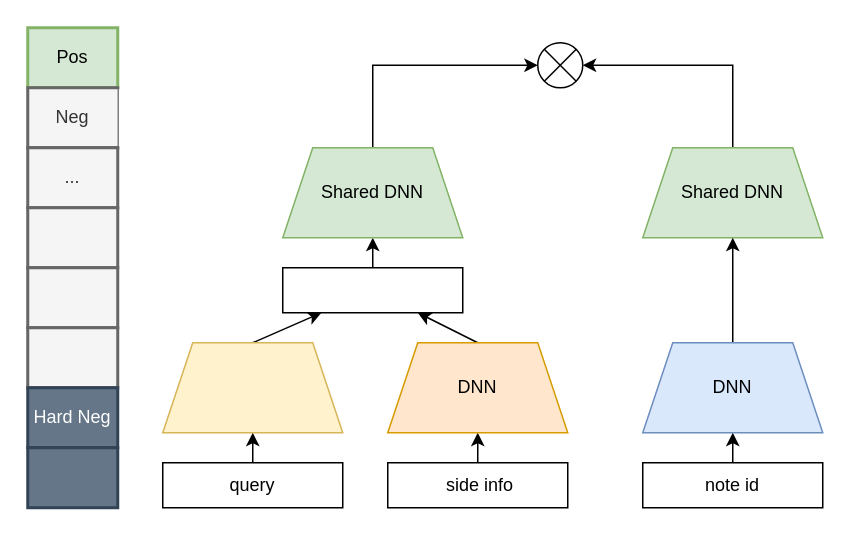
Some shapes in this 849 by 534 pixel diagram are drawn without their labels. Here are the shapes that lost their labels. From the top down, the box of each, then its label:
(281, 266, 463, 313): concat
(161, 341, 343, 433): CNN 预训练
